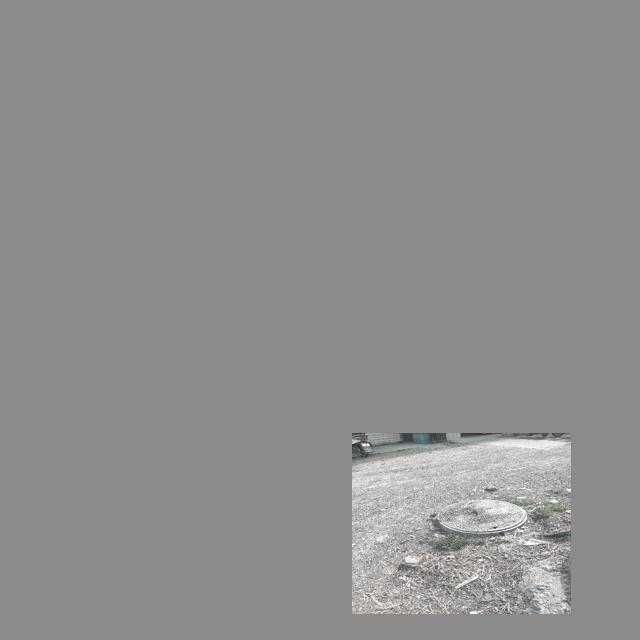good: (437, 499, 528, 533)
